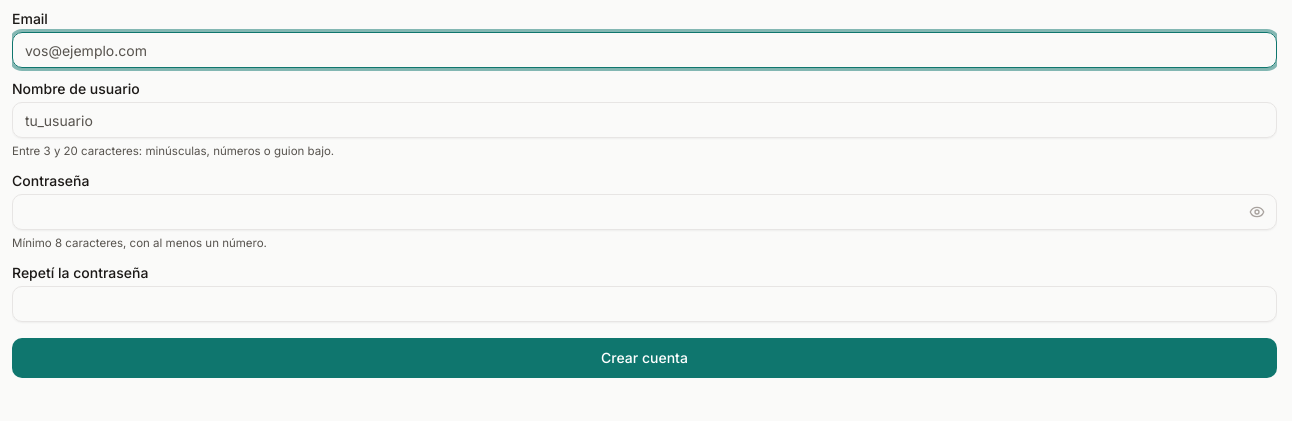
Test case: SignupForm › gives live feedback on the username field as the user types
Step 1. Type "ab" into the field labelled "Nombre de usuario" → (644, 120), box [12,102,1277,138]
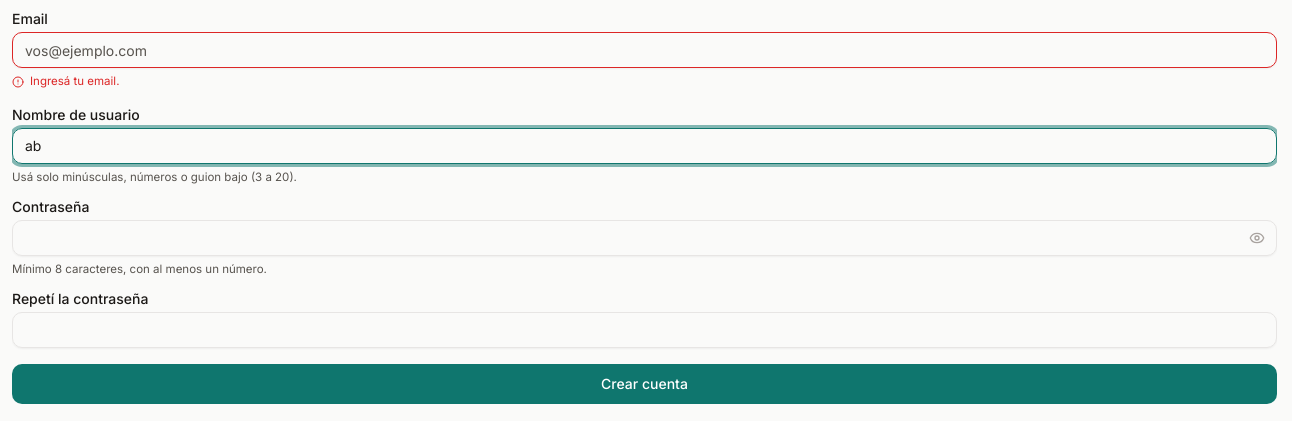
Expected: the text "Usá solo minúsculas, números o guion bajo (3 a 20)." is shown, [12,170,297,184]
Step 2. Type "c_1" into the field labelled "Nombre de usuario" → (644, 146), box [12,128,1277,164]
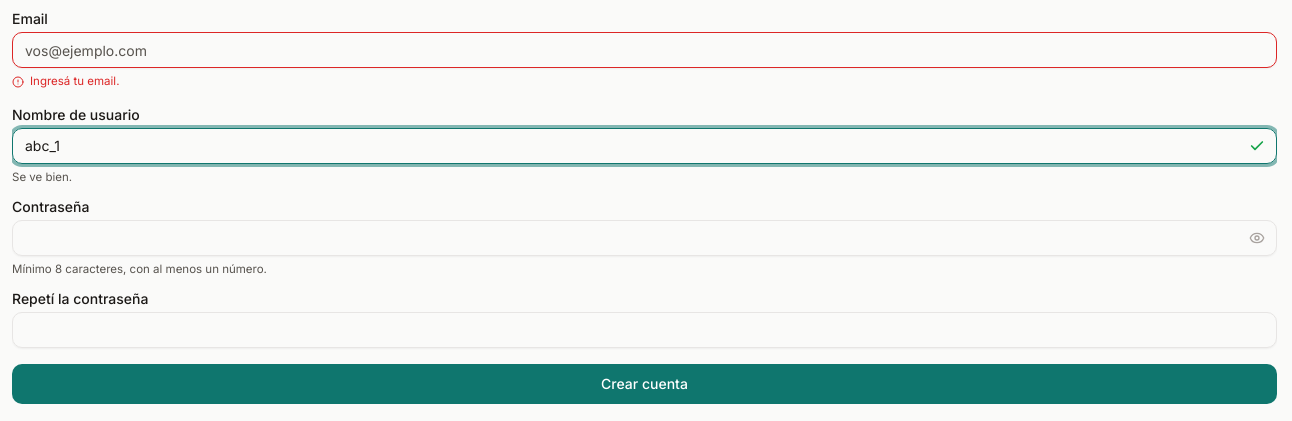
Expected: the text "Se ve bien." is shown, [12,170,72,184]
